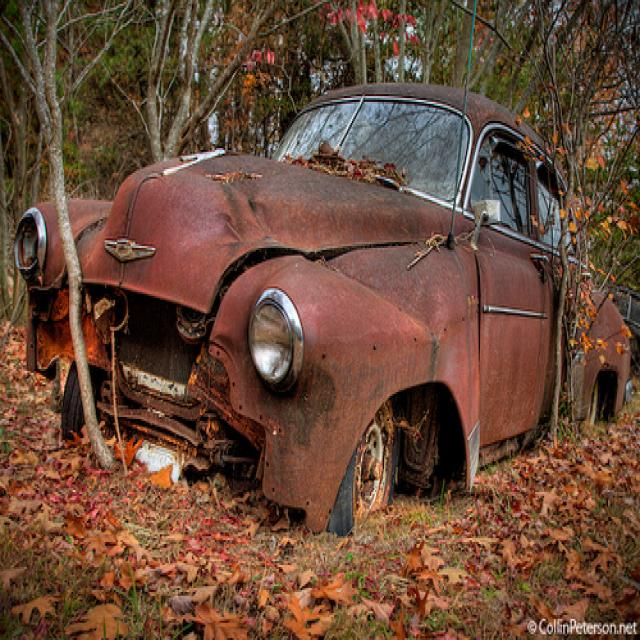Car: (17, 73, 633, 533)
